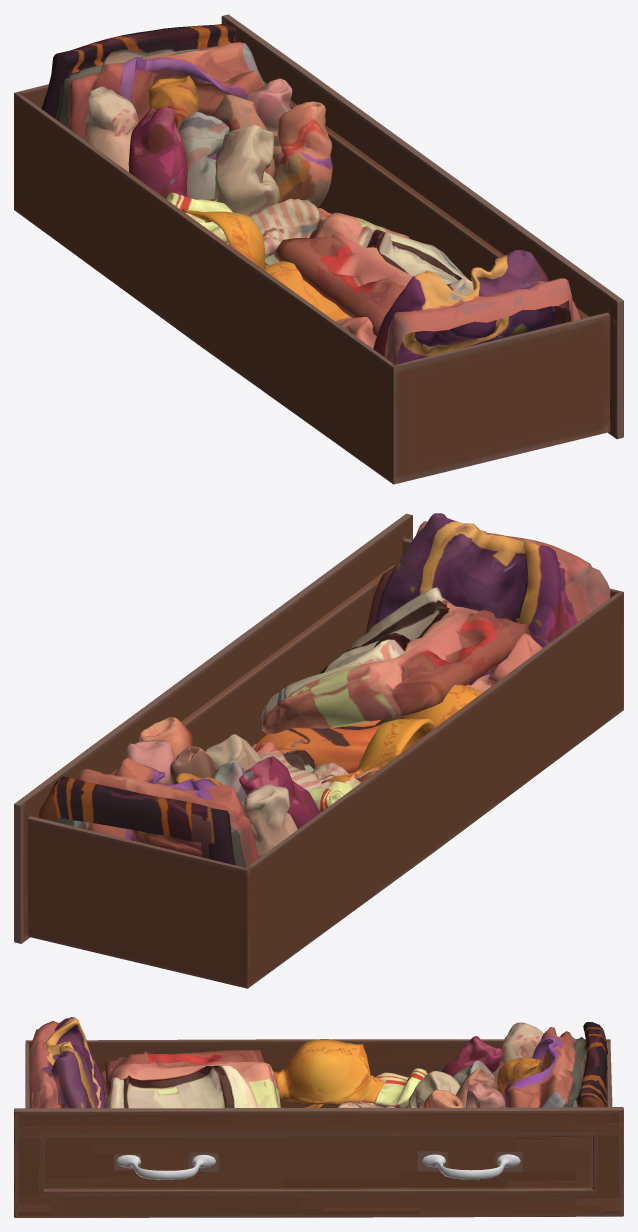
File: DoorPivot #9828.fbx
3 renders of one model, top to bottom at view 1: azimuth 30°, elevation 25°; view 2: azimuth 150°, elevation 25°; view 3: azimuth 270°, elevation 25°, orthographic. The views are drawn at different scales.
Visible parts, largest first — view 1: Line014, lo_shirts_c, lo_shirts_b, lo_shirts_a__1_, lo_socks_bunch_b, lo_socks_bunch_d, lo_socks_bunch_g, lo_bra_a, lo_socks_bunch_h, lo_socks_bunch_e, lo_undies_a, lo_socks_bunch_a (+4 smaller); view 2: Line014, lo_shirts_a__1_, lo_shirts_b, lo_shirts_c, lo_bra_a, lo_shirts_a, lo_socks_bunch_h, lo_socks_bunch_g, lo_socks_bunch_a, lo_sock_loose_a, lo_undies_a, lo_socks_bunch_d (+5 smaller); view 3: Line014, lo_shirts_a__1_, lo_shirts_c, lo_shirts_b, lo_bra_a, lo_sock_loose_b, lo_socks_bunch_h, lo_socks_bunch_g, obj_dresser_handle_00, obj_dresser_handle_03, lo_socks_bunch_d, lo_socks_bunch_f (+4 smaller).
Part boxes in pixels (bbox=[...]): Line014: bbox=[14, 14, 623, 484]; lo_shirts_c: bbox=[41, 23, 264, 159]; lo_shirts_b: bbox=[373, 249, 580, 364]; lo_shirts_a__1_: bbox=[274, 212, 473, 335]; lo_socks_bunch_b: bbox=[273, 101, 332, 207]; lo_socks_bunch_d: bbox=[214, 124, 279, 215]; lo_socks_bunch_g: bbox=[128, 106, 187, 198]; lo_bra_a: bbox=[182, 208, 349, 321]; lo_socks_bunch_h: bbox=[84, 86, 138, 171]; lo_socks_bunch_e: bbox=[178, 112, 229, 199]; lo_undies_a: bbox=[227, 198, 319, 257]; lo_socks_bunch_a: bbox=[245, 78, 292, 176]; Line014: bbox=[14, 513, 623, 988]; lo_shirts_a__1_: bbox=[261, 587, 530, 734]; lo_shirts_b: bbox=[365, 513, 610, 685]; lo_shirts_c: bbox=[38, 758, 258, 867]; lo_bra_a: bbox=[321, 684, 483, 784]; lo_shirts_a: bbox=[255, 684, 469, 782]; lo_socks_bunch_h: bbox=[243, 784, 297, 858]; lo_socks_bunch_g: bbox=[239, 756, 319, 829]; lo_socks_bunch_a: bbox=[123, 740, 174, 784]; lo_sock_loose_a: bbox=[466, 633, 542, 691]; lo_undies_a: bbox=[259, 750, 360, 789]; lo_socks_bunch_d: bbox=[205, 734, 262, 770]; Line014: bbox=[14, 1039, 623, 1217]; lo_shirts_a__1_: bbox=[104, 1050, 280, 1108]; lo_shirts_c: bbox=[504, 1022, 607, 1107]; lo_shirts_b: bbox=[29, 1017, 106, 1108]; lo_bra_a: bbox=[273, 1039, 385, 1107]; lo_sock_loose_b: bbox=[373, 1068, 427, 1107]; lo_socks_bunch_h: bbox=[492, 1022, 543, 1082]; lo_socks_bunch_g: bbox=[442, 1036, 502, 1076]; obj_dresser_handle_00: bbox=[116, 1154, 215, 1179]; obj_dresser_handle_03: bbox=[422, 1154, 520, 1179]; lo_socks_bunch_d: bbox=[408, 1071, 460, 1107]; lo_socks_bunch_f: bbox=[497, 1057, 542, 1098].
Size of the model in its own units: 0.3633 by 0.2371 by 0.9416.
Materials: 3 (3 with a texture image).
